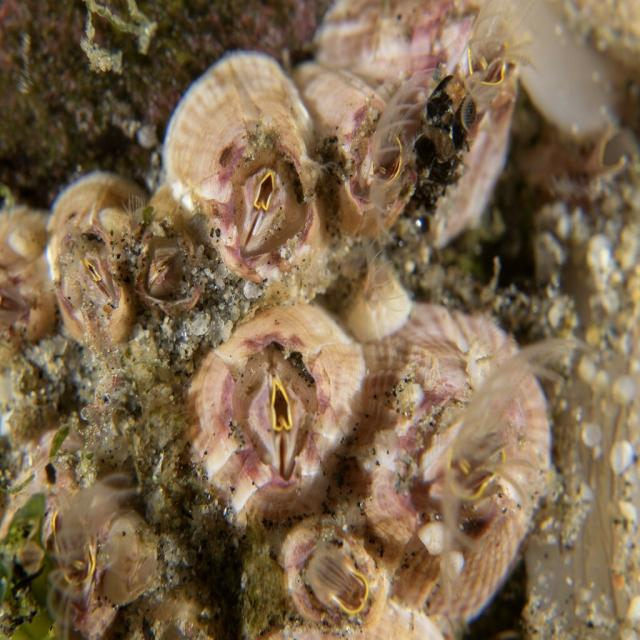barnacles: (347, 314, 558, 599), (182, 294, 357, 522), (161, 58, 317, 306), (302, 62, 428, 258), (41, 178, 132, 352), (134, 232, 216, 325)
